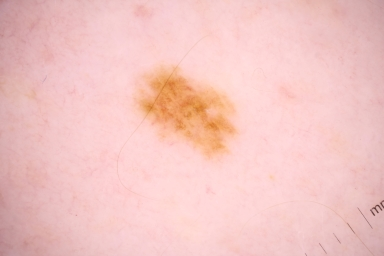nevus: (142, 63, 232, 159)
